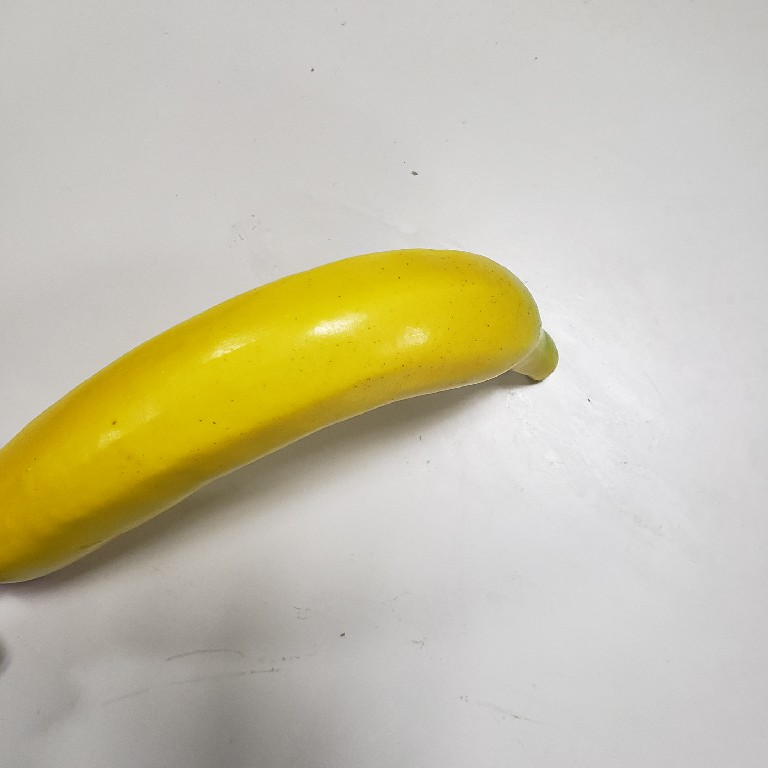fruit_banana: (1, 240, 566, 600)
